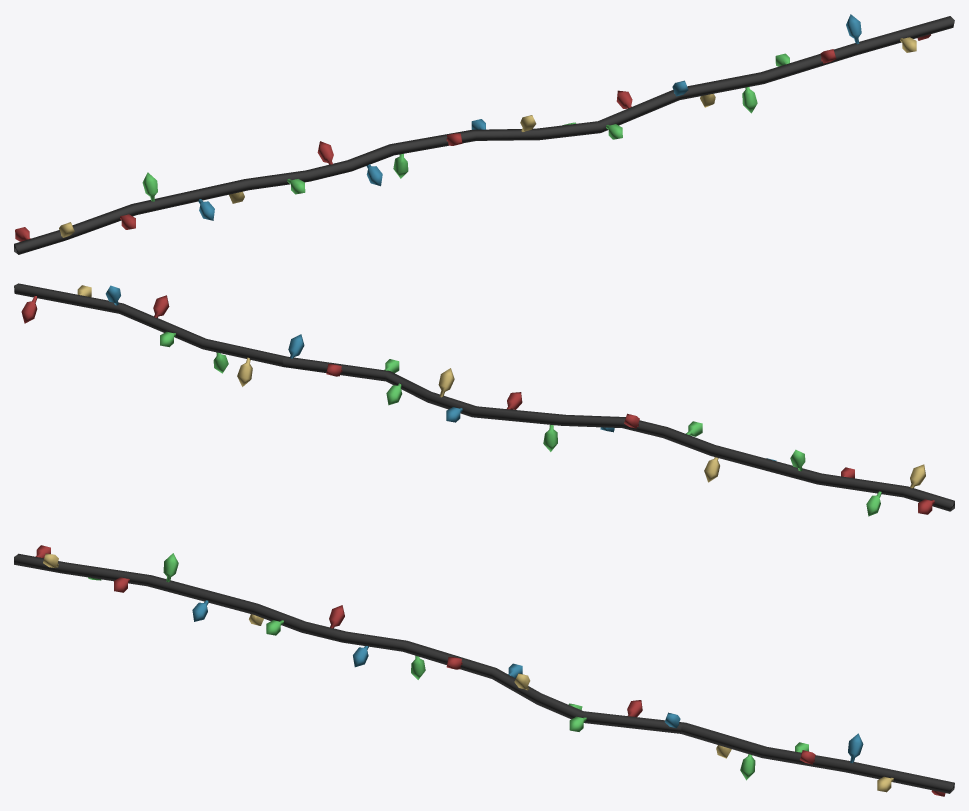
File: StringLights.fbx
3 renders of one model, top to bottom at view 1: azimuth 30°, elevation 25°; view 2: azimuth 150°, elevation 25°; view 3: azimuth 330°, elevation 25°, orthographic.
Parts seen in each view (by area): view 1: pCube80; view 2: pCube80; view 3: pCube80.
Boxes of the visible parts, x1,y1,x2,y2 form: pCube80: [14, 14, 954, 254]; pCube80: [14, 283, 954, 516]; pCube80: [14, 545, 954, 796].
Size of the model in its own units: 4.68 by 0.3649 by 0.4456.
